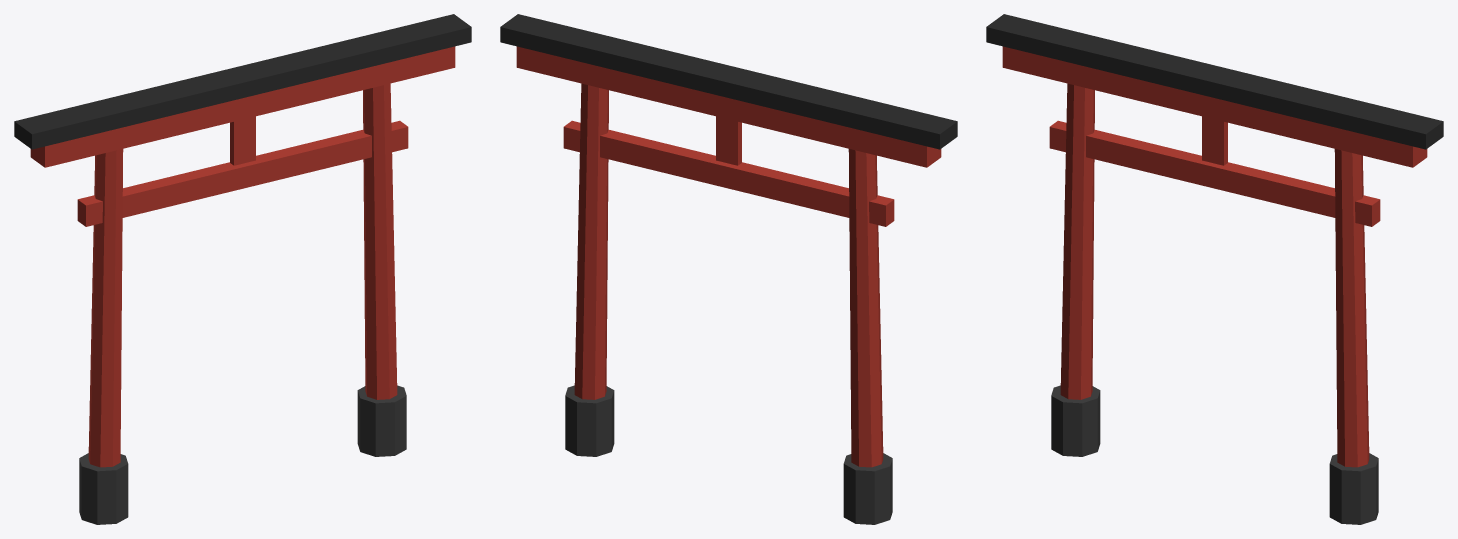
Rendered from torii.glb.
3 renders of one model, left to right at view 1: azimuth 30°, elevation 25°; view 2: azimuth 150°, elevation 25°; view 3: azimuth 330°, elevation 25°, orthographic.
Visible parts, largest first — view 1: torii; view 2: torii; view 3: torii.
Boxes of the visible parts, left/top/right/bottom form: torii: left=14, top=14, right=471, bottom=524; torii: left=500, top=14, right=957, bottom=524; torii: left=986, top=14, right=1443, bottom=524.
Size of the model in its own units: 6 by 5.3 by 0.6.
